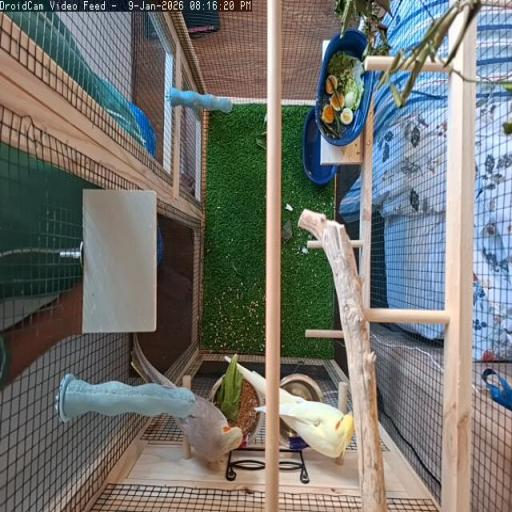bebedero: (281, 373, 324, 401), (281, 421, 295, 445)
comedero: (228, 378, 263, 445), (209, 375, 223, 409)
ninfa: (279, 390, 354, 457), (178, 396, 242, 461), (132, 340, 176, 386), (237, 364, 265, 391)
